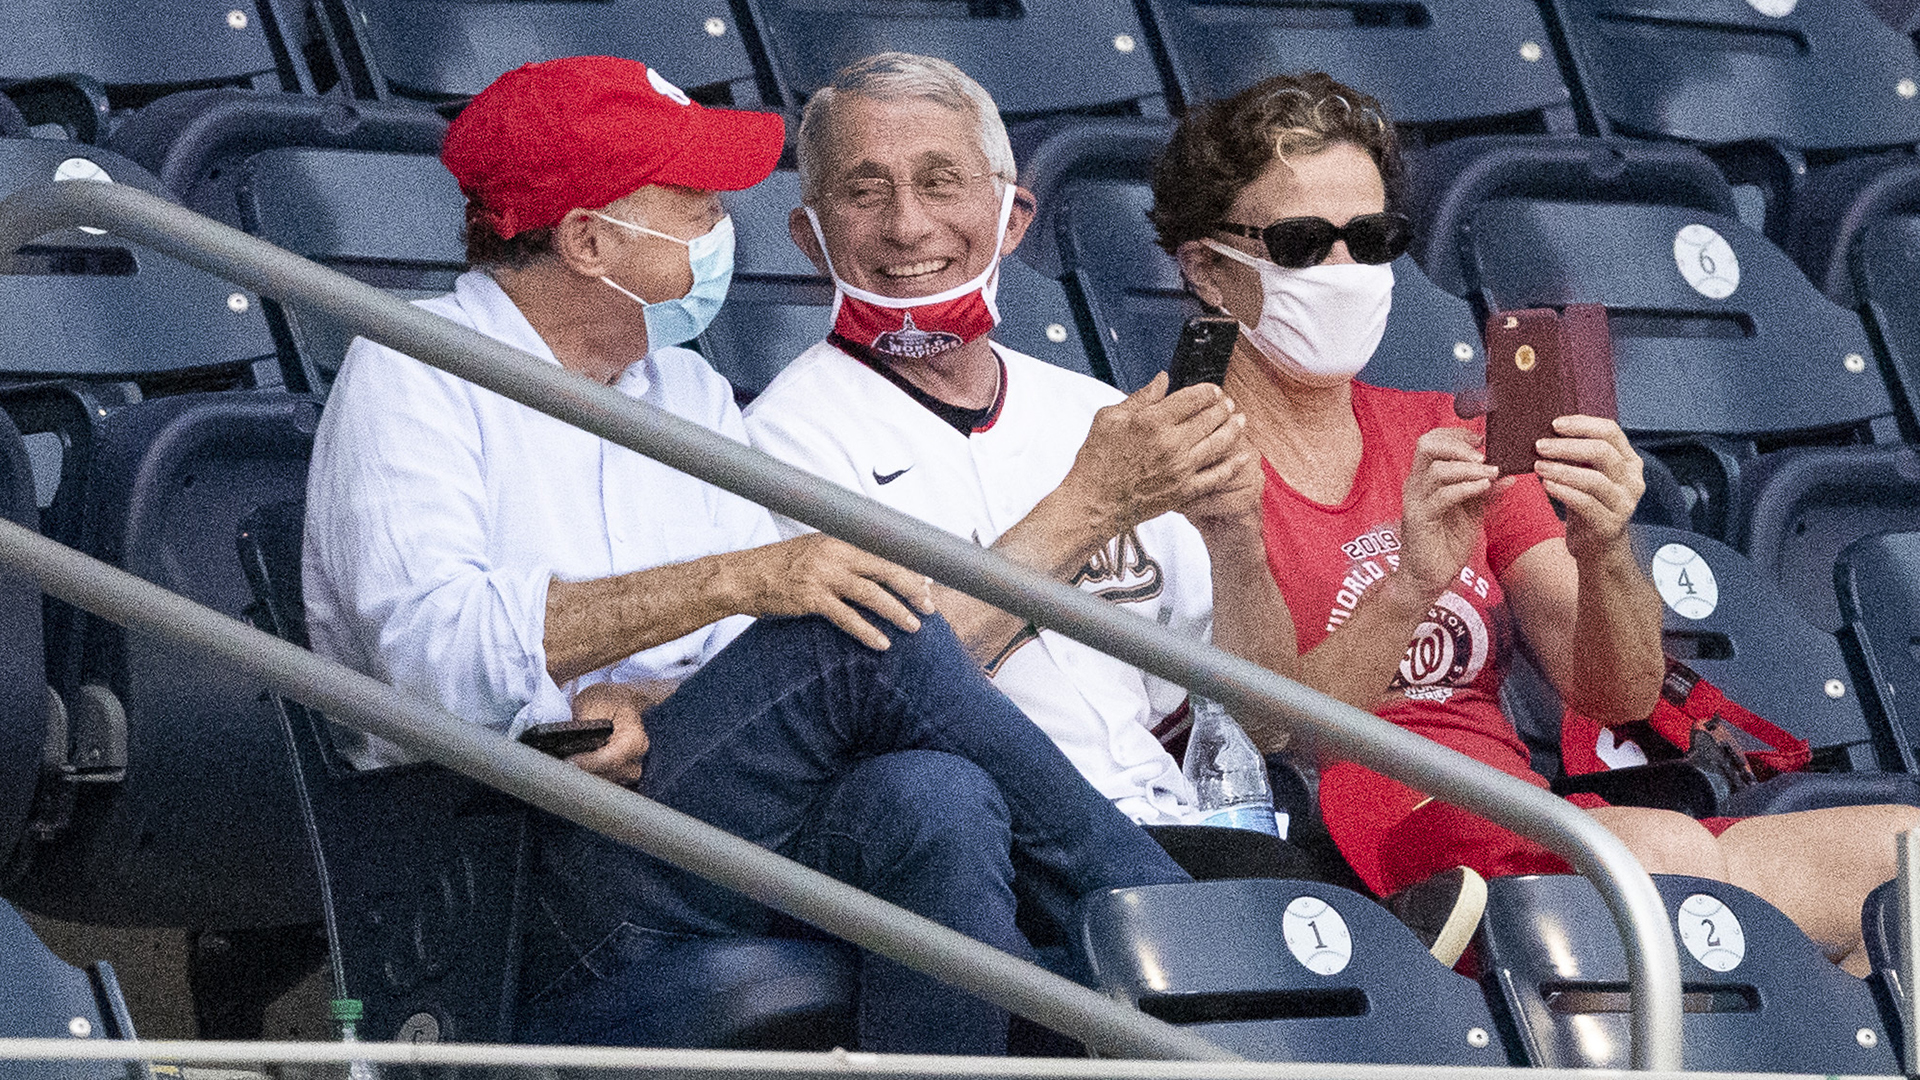with_incorrect_mask: (834, 152, 991, 340)
with_mask: (1246, 200, 1398, 374), (656, 187, 742, 349)
